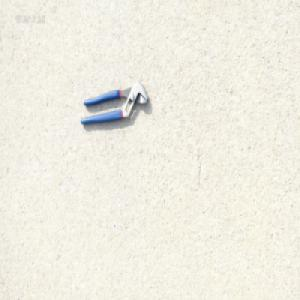Pliers: (79, 80, 149, 126)
